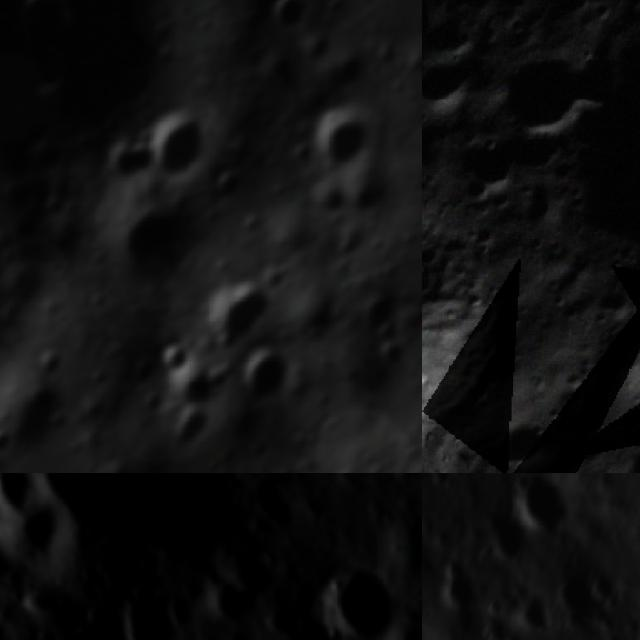crater: (0, 473, 378, 634), (490, 0, 640, 392), (422, 183, 541, 446), (480, 35, 605, 153), (290, 540, 422, 640), (116, 197, 203, 291), (310, 101, 390, 190), (0, 497, 80, 585), (103, 574, 206, 640), (504, 110, 588, 190), (558, 40, 640, 121), (140, 104, 213, 193), (454, 125, 538, 202), (422, 44, 489, 135), (484, 406, 569, 473), (422, 3, 489, 77), (190, 573, 264, 640), (213, 539, 280, 610), (237, 336, 299, 407), (210, 276, 267, 349), (507, 473, 572, 537), (549, 561, 605, 632), (477, 495, 536, 562), (143, 330, 200, 398), (379, 502, 422, 583), (585, 274, 640, 325), (503, 584, 554, 638), (121, 542, 172, 590), (0, 473, 40, 531), (264, 0, 306, 40), (544, 0, 606, 25), (0, 235, 20, 312), (554, 298, 588, 330), (616, 437, 640, 473), (422, 143, 433, 192), (0, 433, 15, 468)
